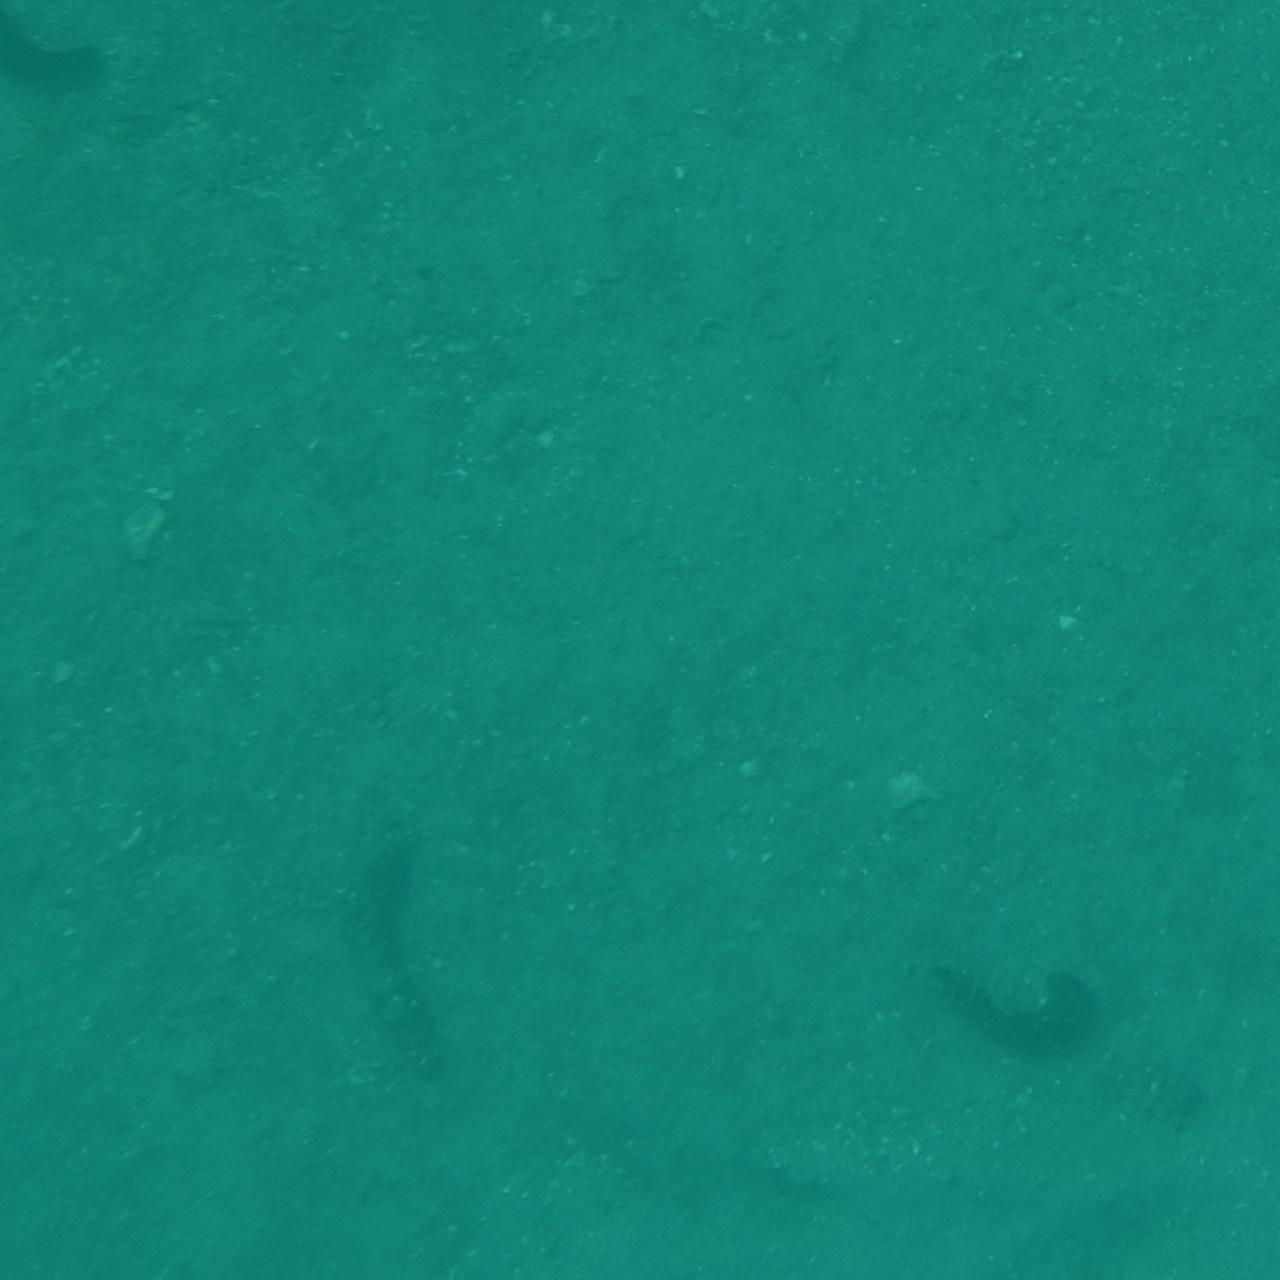Holothuria tubulosa: (331, 735, 457, 1075), (0, 1005, 109, 1280), (919, 952, 1136, 1087), (0, 994, 222, 1112), (0, 591, 96, 855), (1157, 760, 1280, 956), (0, 0, 128, 125), (179, 0, 477, 52), (0, 1117, 82, 1280), (1141, 1200, 1280, 1280), (0, 1137, 61, 1280), (1217, 1155, 1280, 1280)
